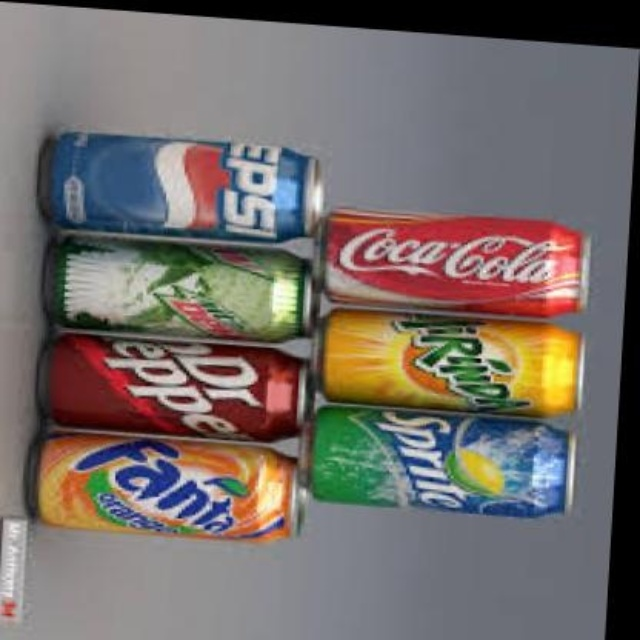trash: (46, 132, 318, 240), (326, 209, 588, 315), (312, 406, 566, 515), (49, 334, 303, 440), (38, 434, 294, 538), (323, 311, 578, 415), (54, 238, 306, 340)
